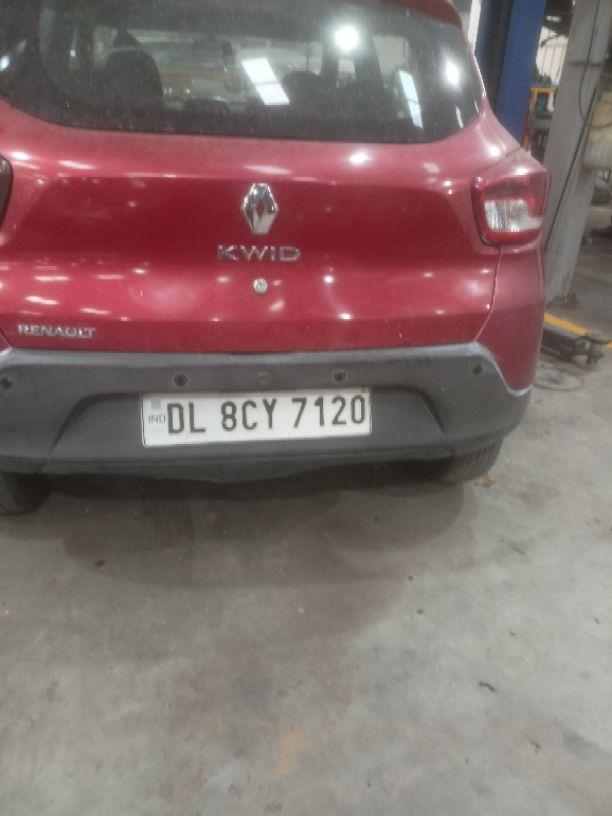license_plate: (138, 385, 373, 447)
